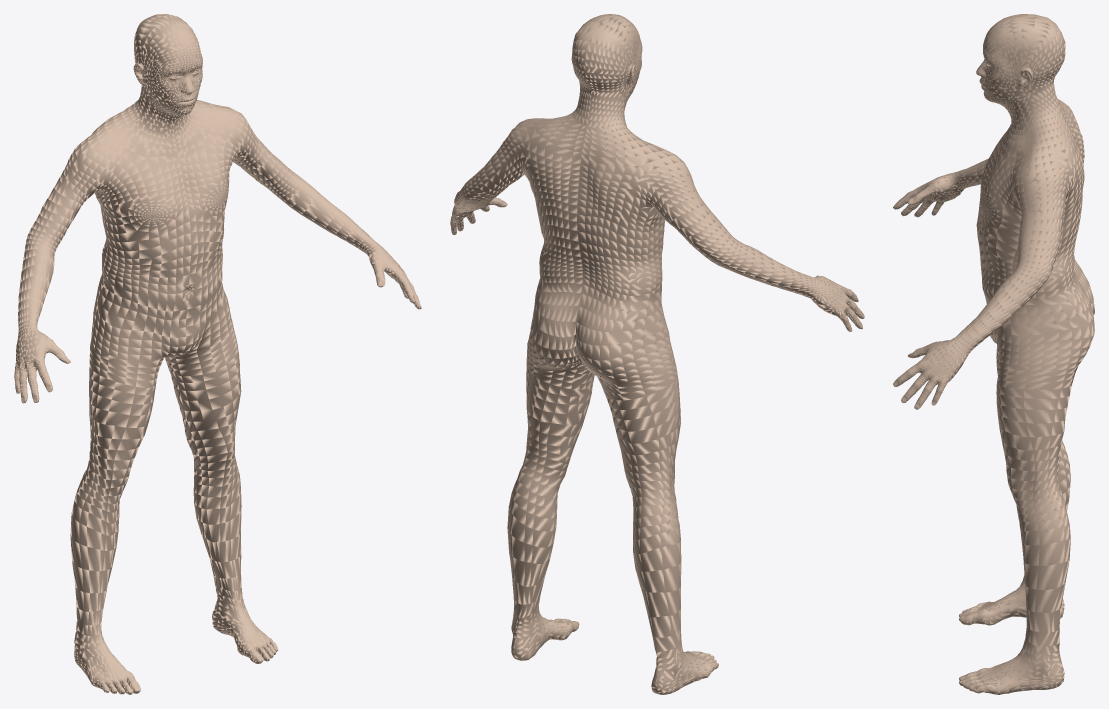
Rendered from male_medium_low.glb.
3 views of the same model, side by side, from view 1: azimuth 30°, elevation 25°; view 2: azimuth 150°, elevation 25°; view 3: azimuth 270°, elevation 25° (orthographic).
Visible parts, largest first — view 1: male_medium_lowMesh; view 2: male_medium_lowMesh; view 3: male_medium_lowMesh.
Part boxes in pixels (bbox=[...]): male_medium_lowMesh: bbox=[14, 14, 421, 694]; male_medium_lowMesh: bbox=[450, 14, 864, 694]; male_medium_lowMesh: bbox=[893, 14, 1094, 694].
Size of the model in its own units: 11.21 by 17.17 by 4.93.
